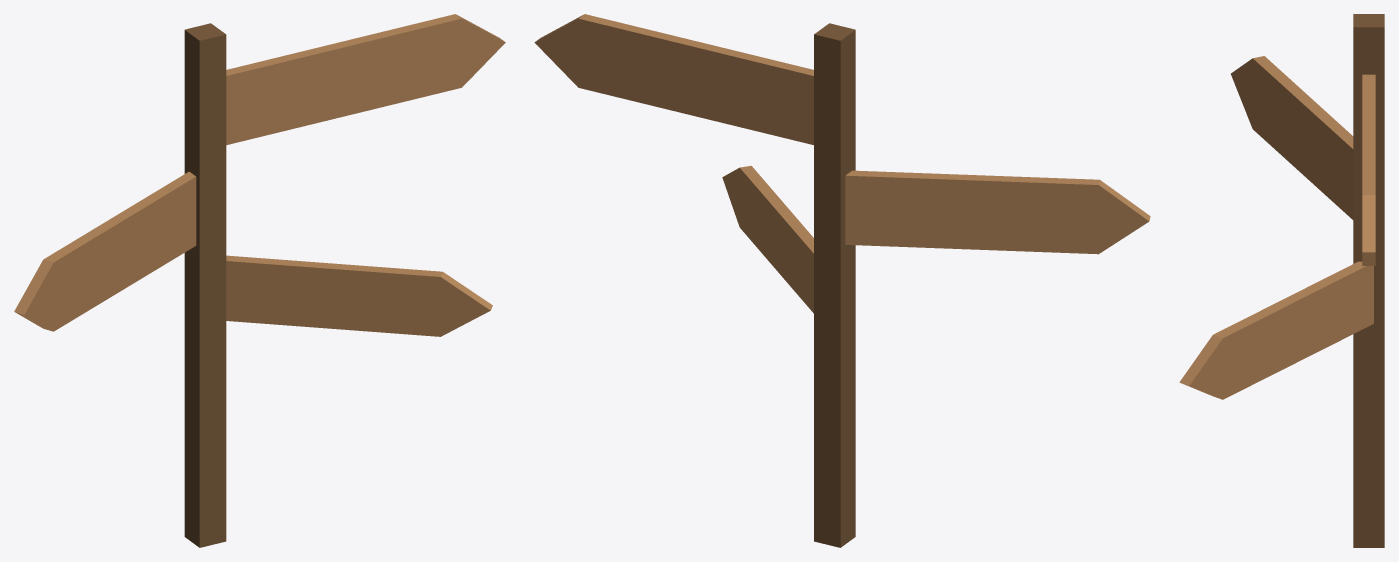
The model's file is signpost.glb.
3 views of the same model, side by side, from view 1: azimuth 30°, elevation 25°; view 2: azimuth 150°, elevation 25°; view 3: azimuth 270°, elevation 25° (orthographic). The views are drawn at different scales.
Visible parts, largest first — view 1: signpost; view 2: signpost; view 3: signpost.
Part boxes in pixels (box(x1,y1,x2,y2)): signpost: box(14, 14, 505, 547); signpost: box(534, 14, 1150, 547); signpost: box(1179, 14, 1384, 547).
Size of the model in its own units: 2.5 by 2.2 by 0.7862.
